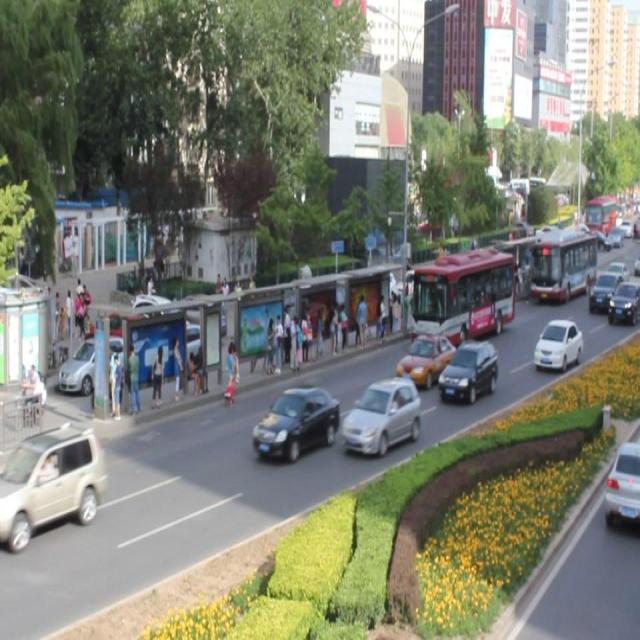car: (0, 426, 104, 533), (251, 384, 337, 459), (341, 374, 419, 454), (437, 337, 497, 399), (395, 331, 456, 387), (532, 317, 582, 367), (588, 270, 624, 311), (607, 278, 640, 322)
van: (411, 246, 512, 342), (528, 224, 594, 294)
